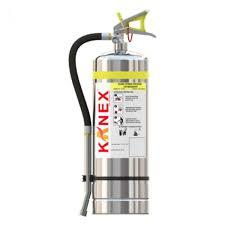Fire Extinguisher: (66, 5, 166, 221)
